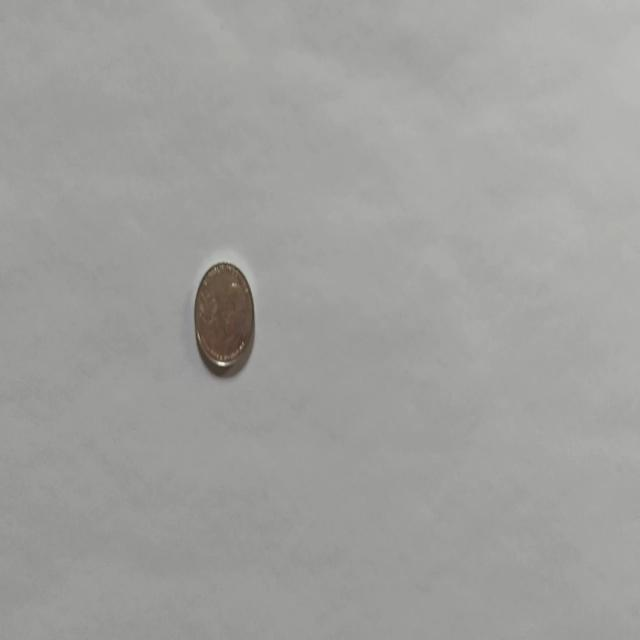lima ratus rupiah: (192, 258, 255, 374)
